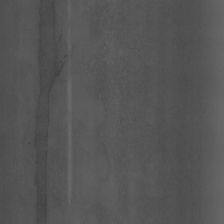water_spot: (28, 16, 64, 224)
